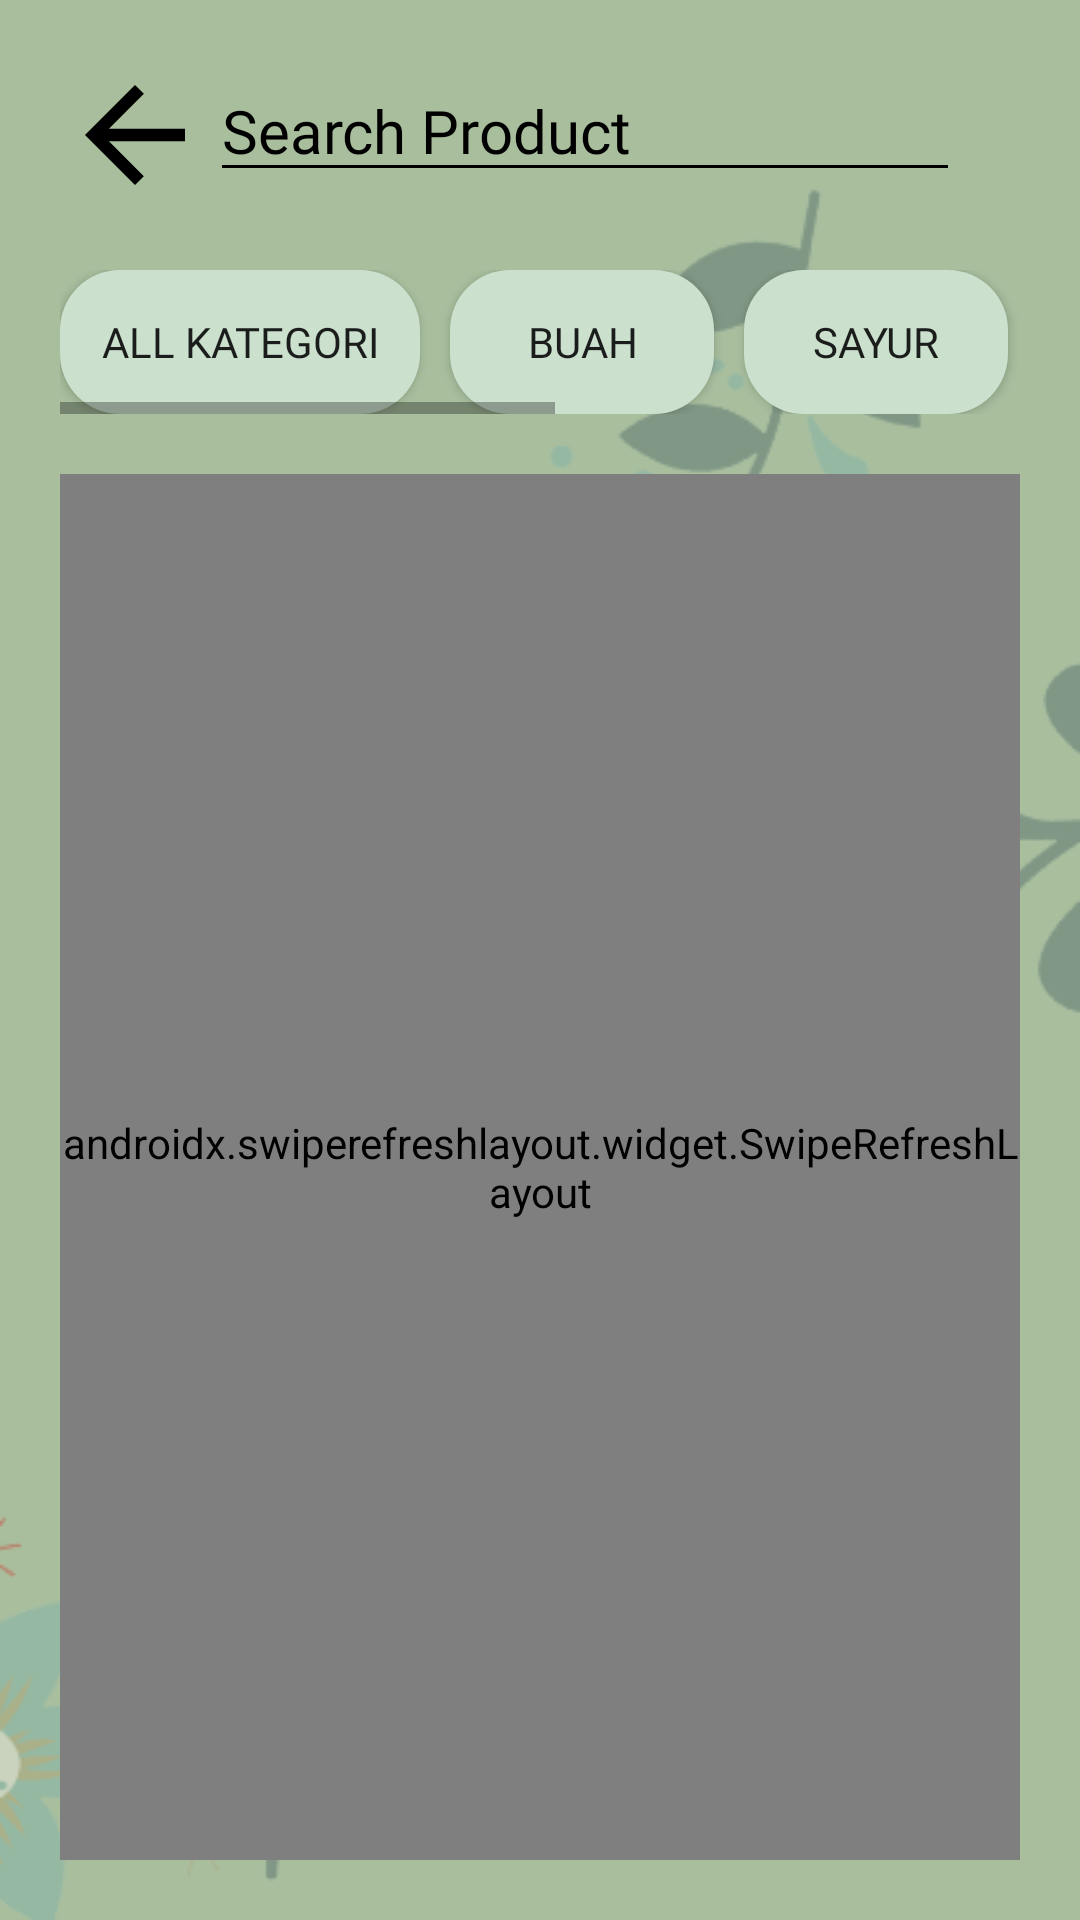

Screen size 1080w x 1920h. Icon name, then its center in pixels as point (x, y):
back: point (135, 135)
